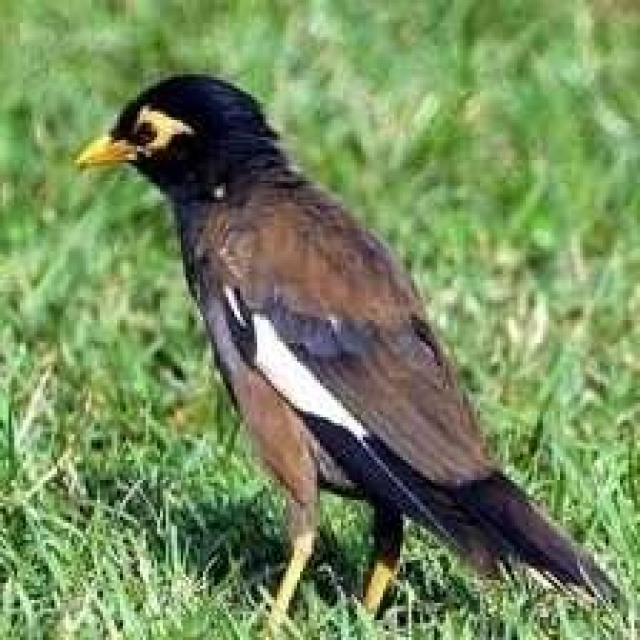bird: (66, 58, 627, 638)
